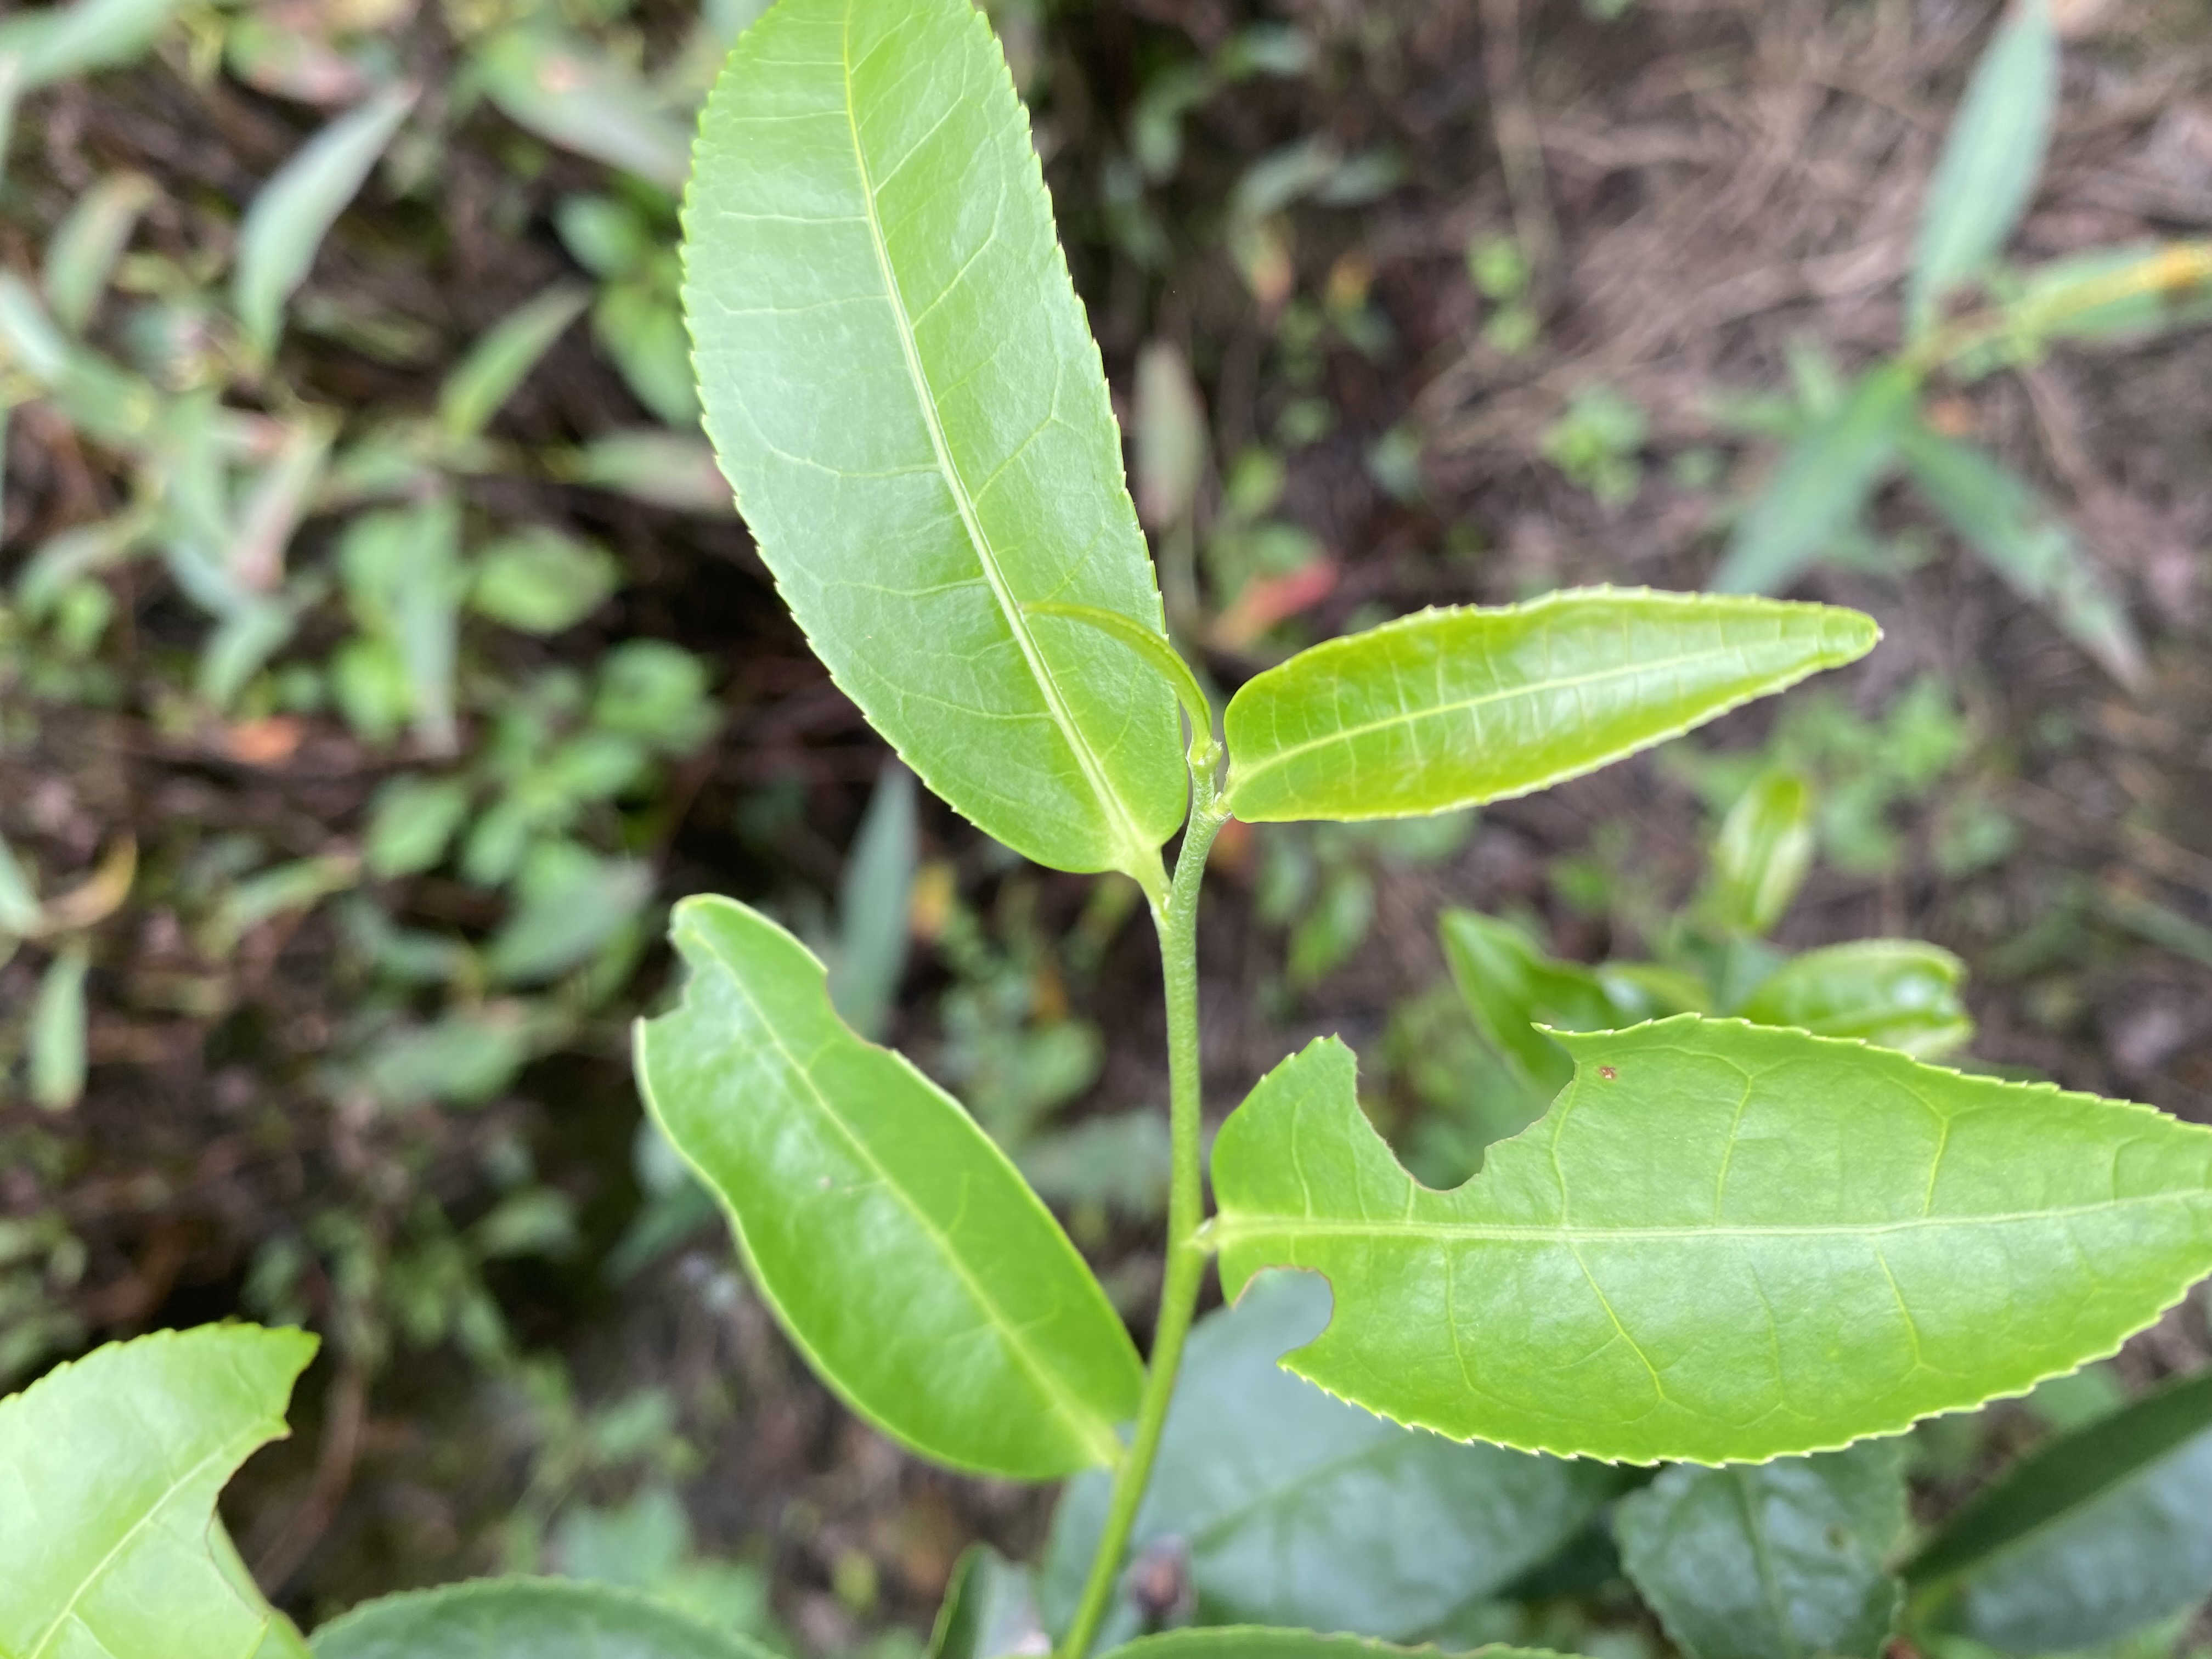chihuo_high: (1207, 1011, 2210, 1474), (629, 889, 1148, 1480), (5, 1309, 324, 1657)
healthy: (679, 2, 1190, 880), (1223, 579, 1881, 826)
